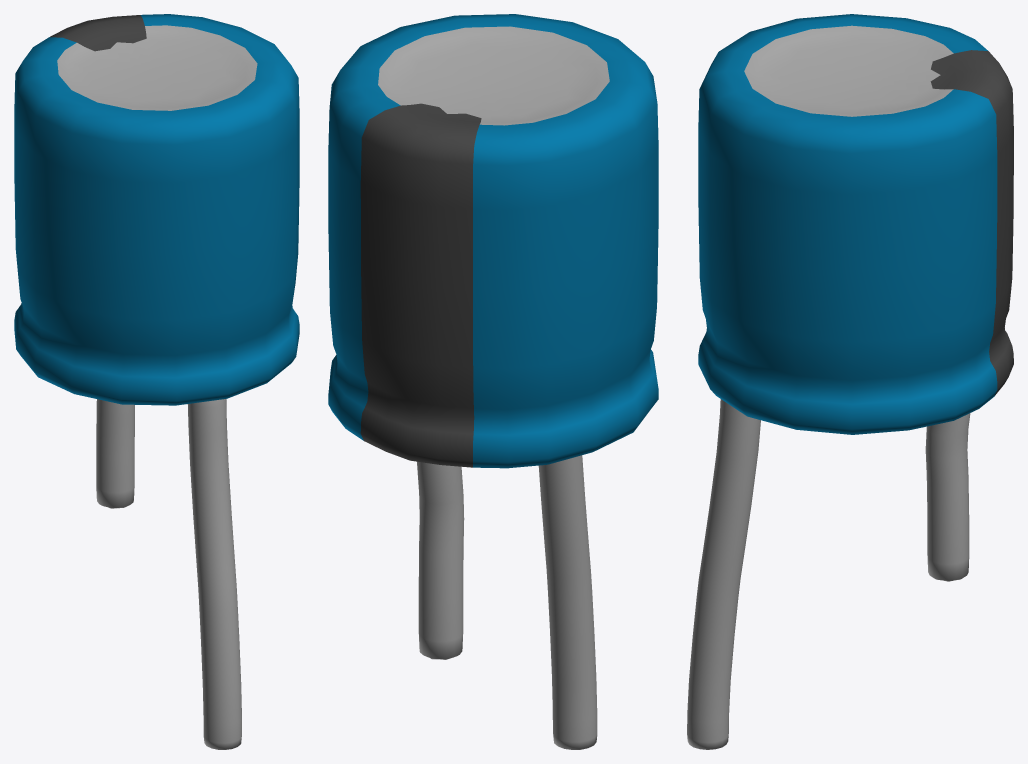
The model's file is capacitor1.fbx.
The picture shows the model from 3 angles, left to right: view 1: azimuth 30°, elevation 25°; view 2: azimuth 150°, elevation 25°; view 3: azimuth 270°, elevation 25°; orthographic projection. The views are drawn at different scales.
Visible parts, largest first — view 1: CapacitorB, LegsB; view 2: CapacitorB, LegsB; view 3: CapacitorB, LegsB.
Boxes of the visible parts, x1,y1,x2,y2 form: CapacitorB: (14,14,299,405); LegsB: (96,399,241,749); CapacitorB: (328,14,658,468); LegsB: (417,455,597,749); CapacitorB: (698,14,1013,434); LegsB: (687,399,970,749).
Size of the model in its own units: 61.3 by 57.64 by 139.
